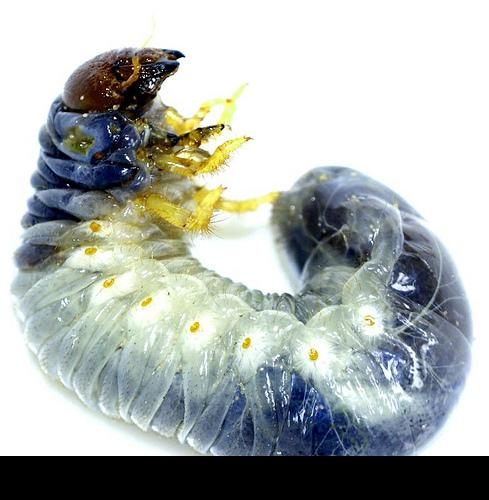grub: (6, 44, 489, 454)
